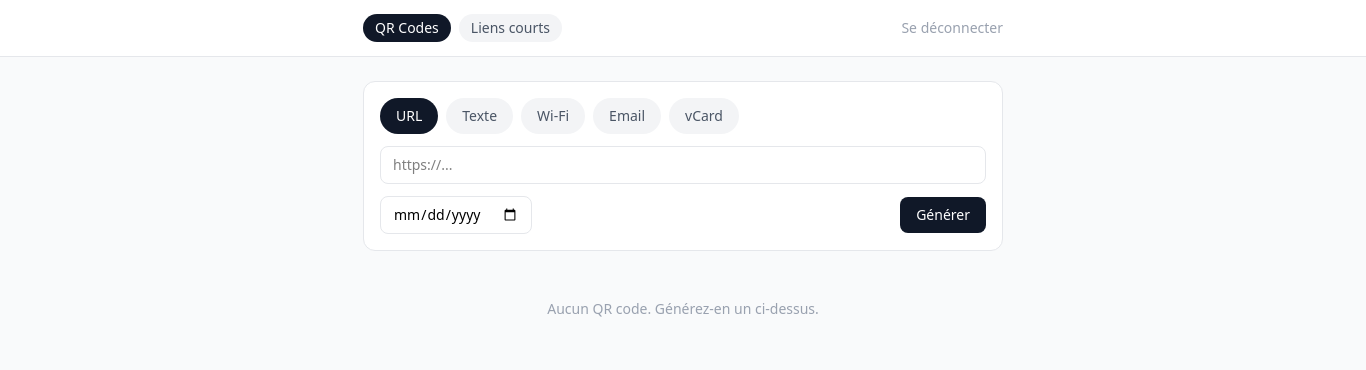
it: LinkCard expiry UI (link-expiration) › LinkCard should show "Expire le [date]" text when expiresAt is in the future
The image size is (1366, 370).
Click the button with test id "tab-links": x=510, y=28 [459,14,562,42]
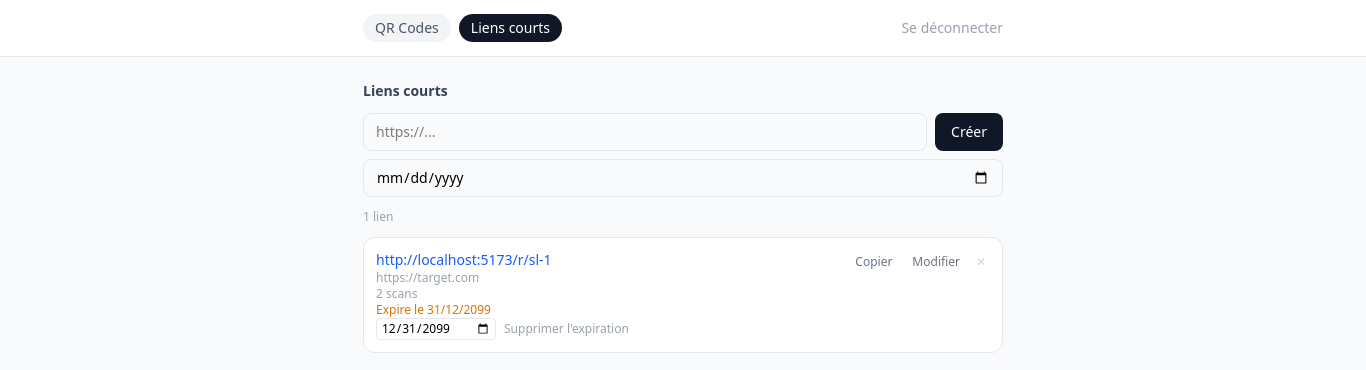
Expected: the text "Expire le 31/12/2099" is shown, [376,301,491,318]
